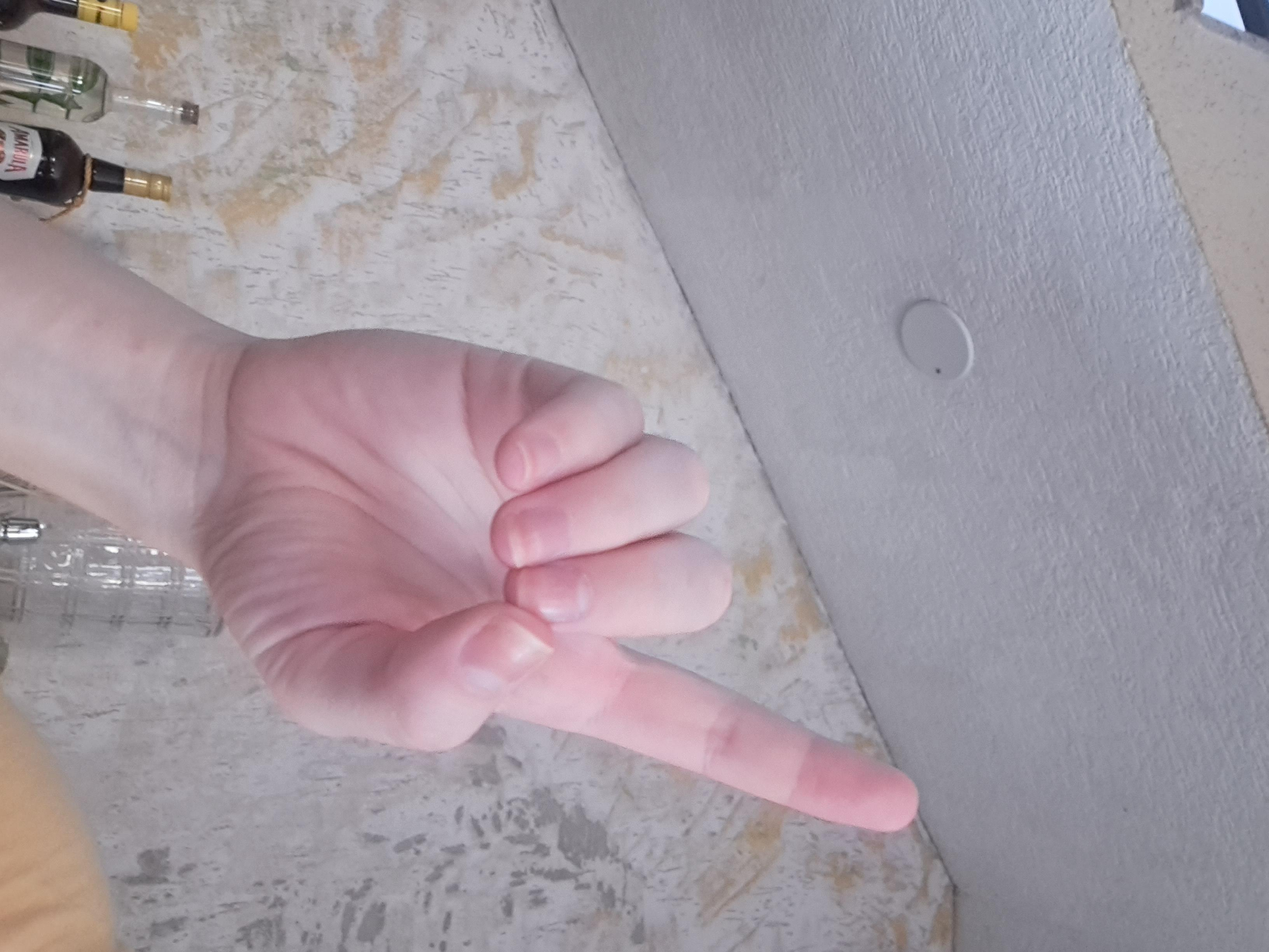D2: (430, 254, 1115, 805)
